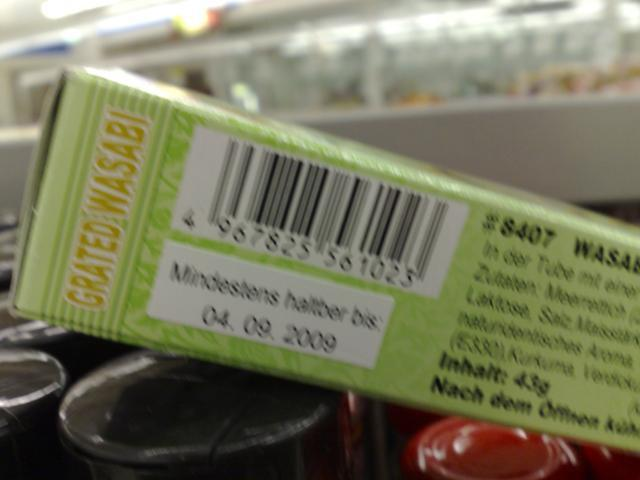Barcode: (179, 134, 452, 296)
